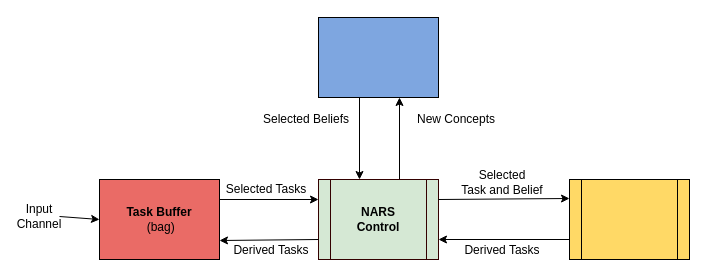
This 707x278 diagram has some shape labels left out. Here are the shapes that lost their labels. From the top down, the centre of each, then its label:
At point 378,57: "Memory (bag)".
At point 629,219: "Inference Engine".
